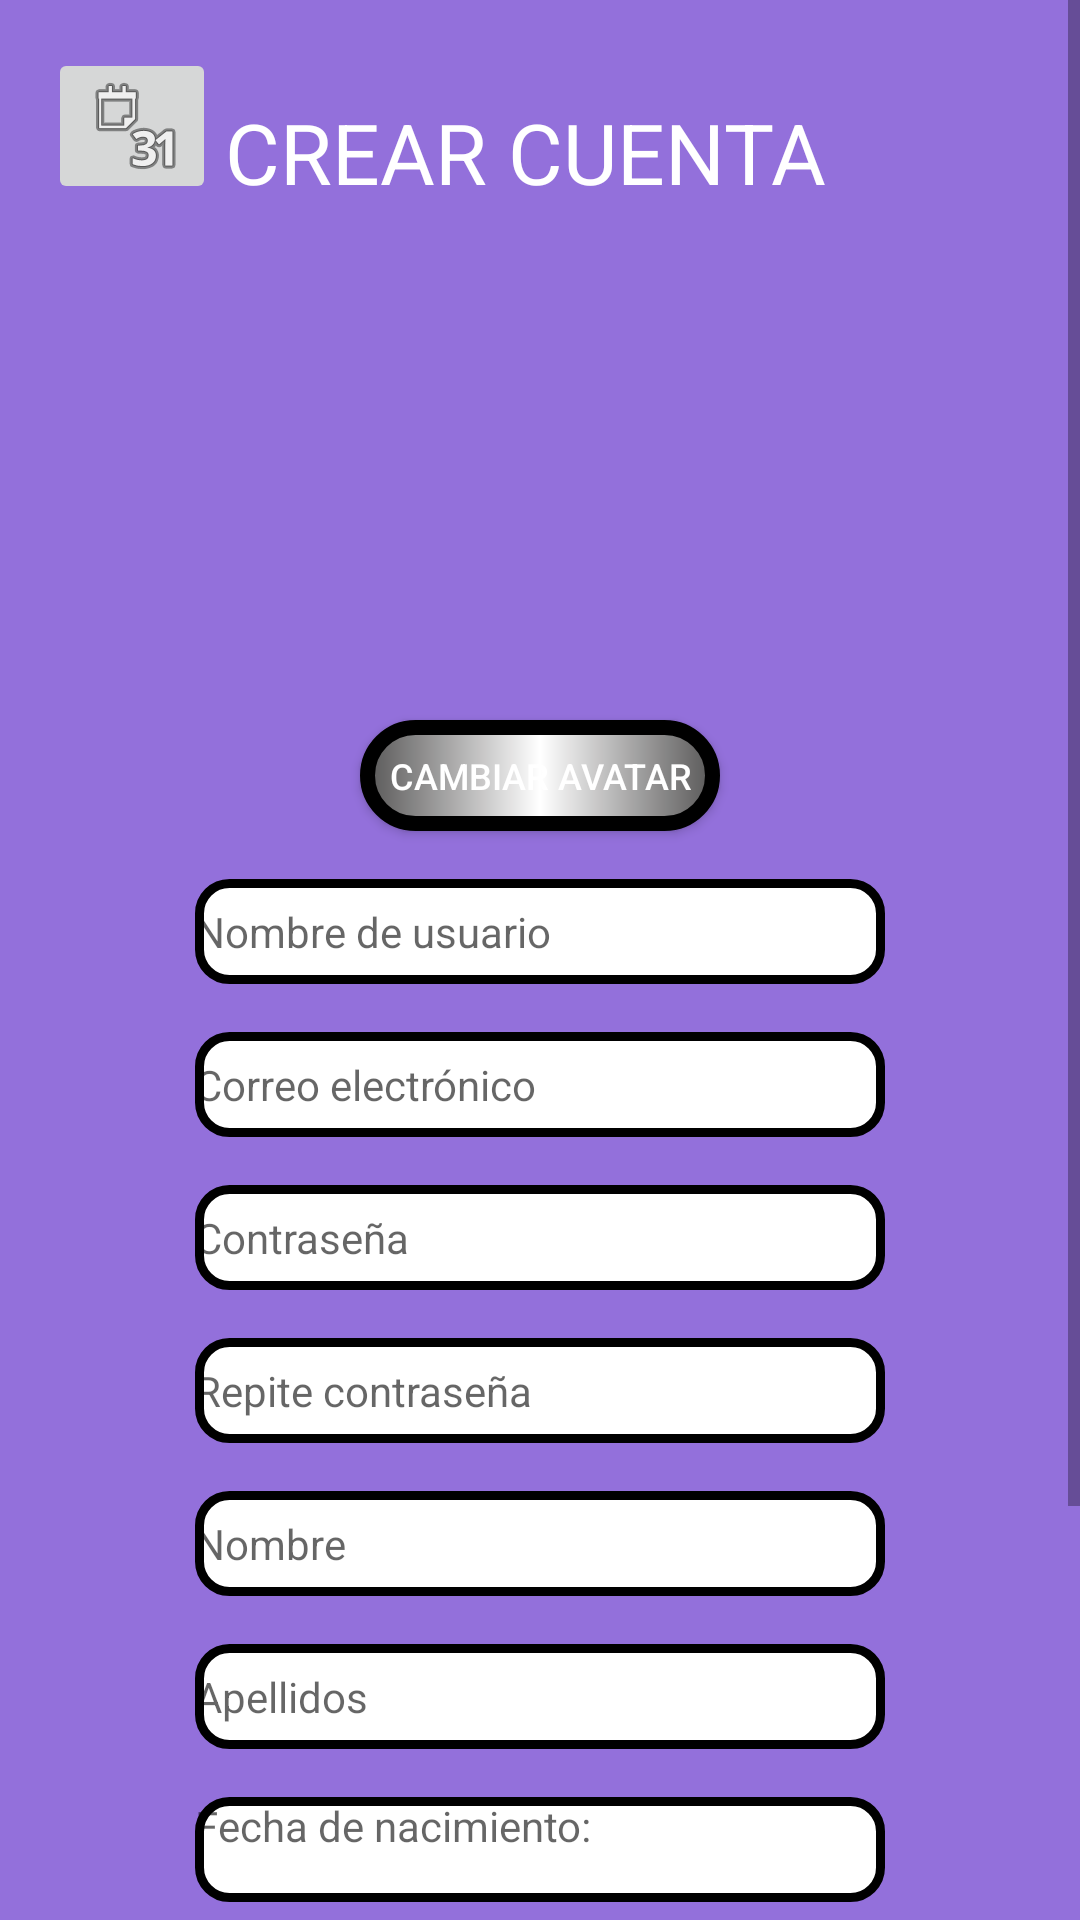

Icons on this 1080*1920 Android screen, each with the point to tap as (x=x, y=y):
month: (x=132, y=126)
